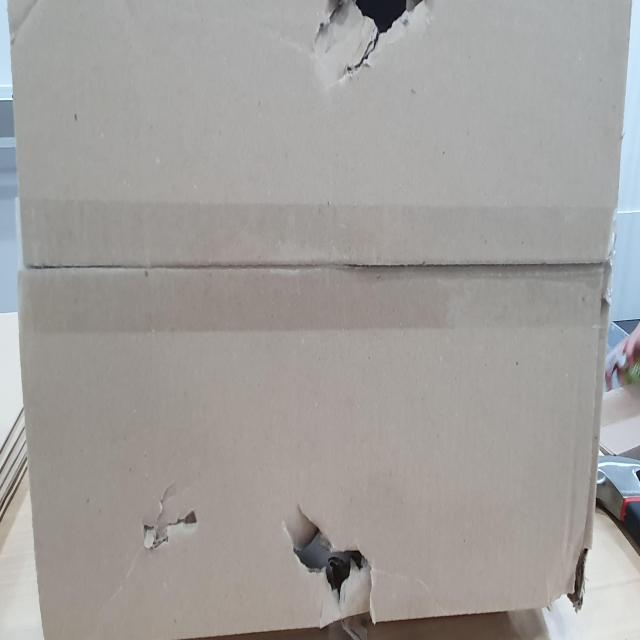damaged: (288, 504, 379, 595), (327, 0, 426, 42)
